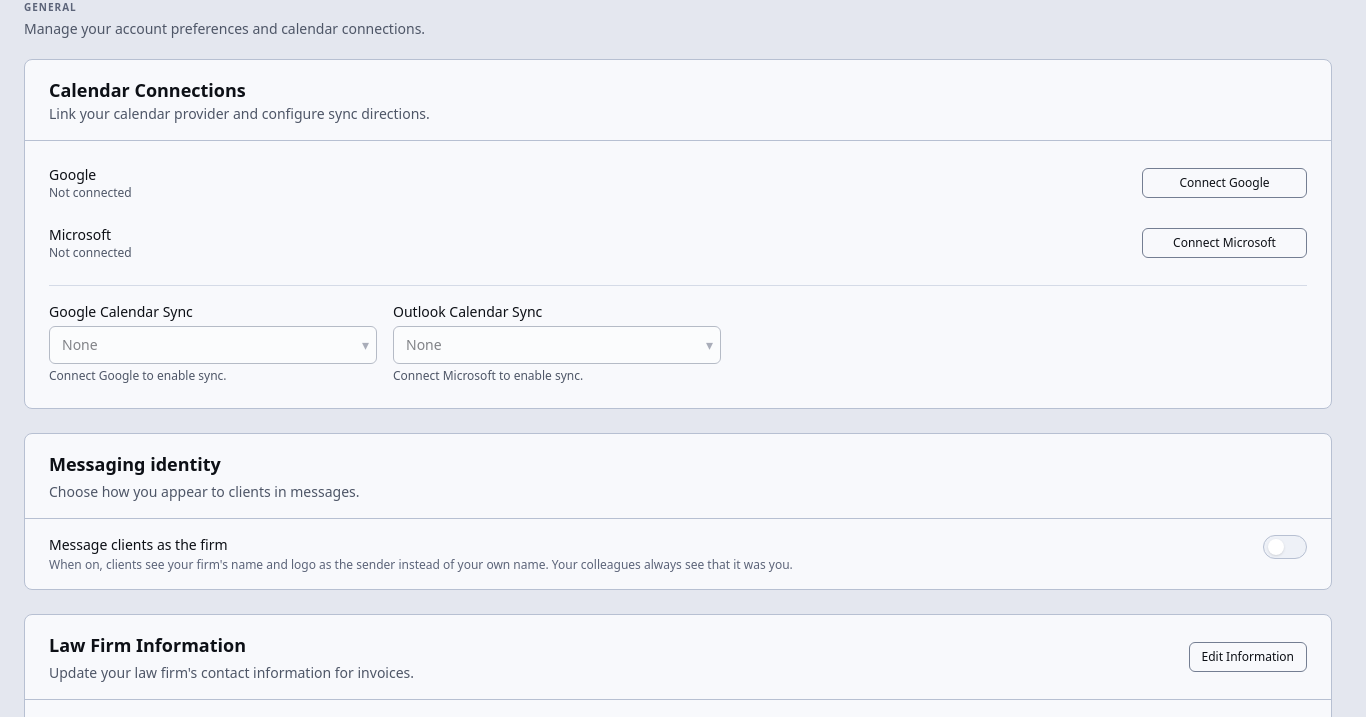
Test: saving the firm information › refreshes the shared firm and shows the saved details and a confirmation in the card
Click the button "Edit Information" at (1248, 657), box [1188,642,1307,672]
(page scrolled)
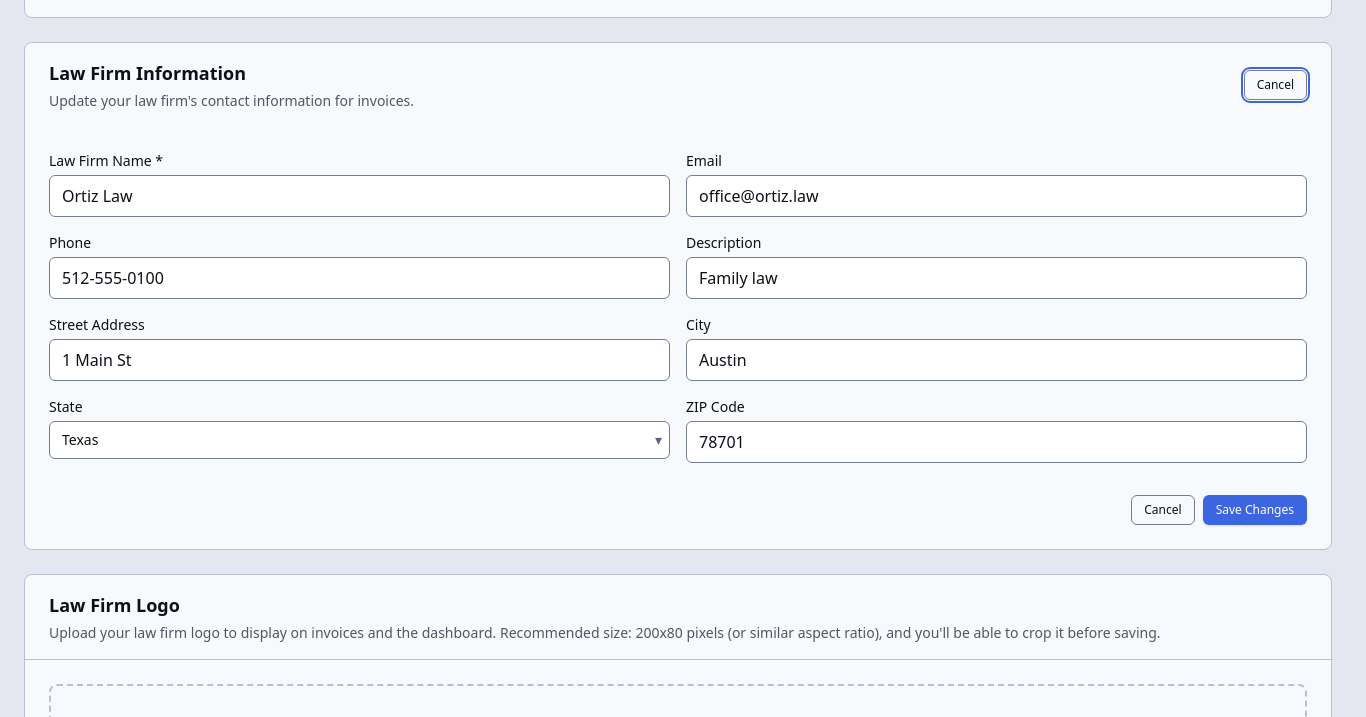
Replace the text in the field labelled "Street Address" with "200 Congress Ave" at (360, 360), box [49,339,670,381]
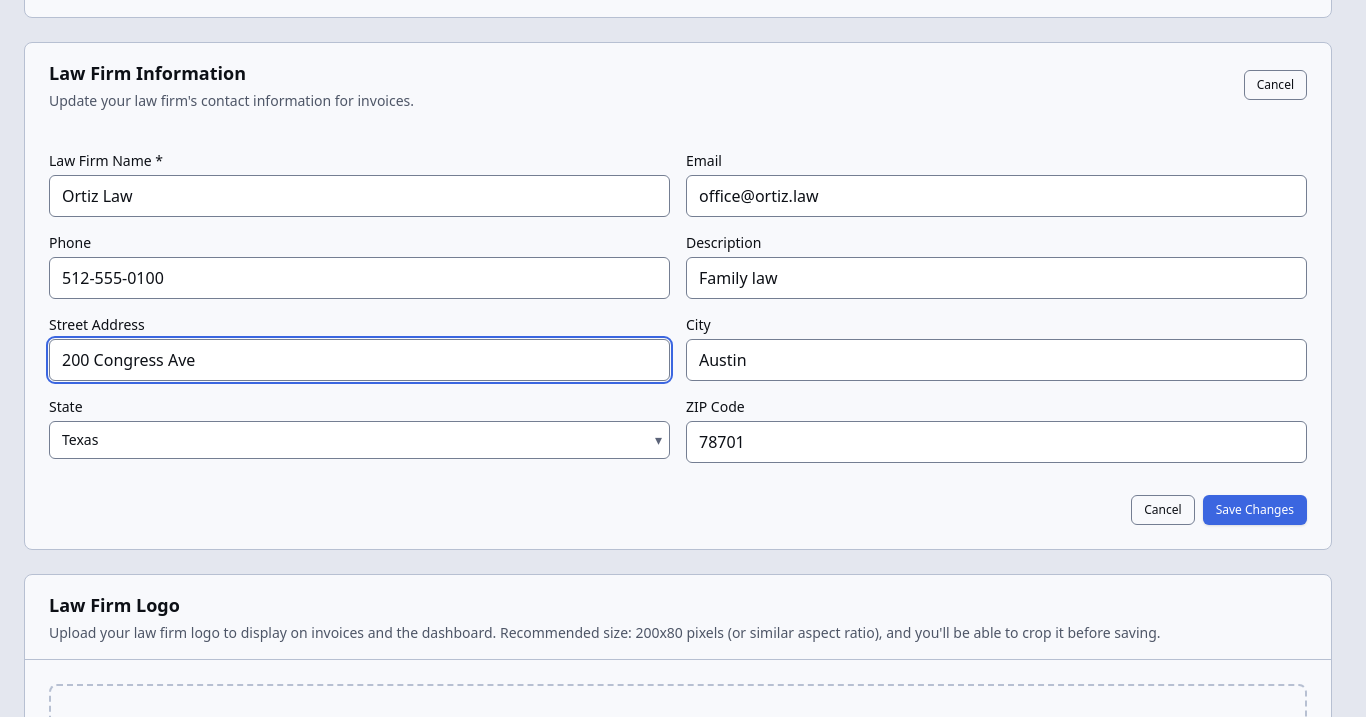
Click the button named "State" at (80, 440), box [49,421,670,459]
(page scrolled)
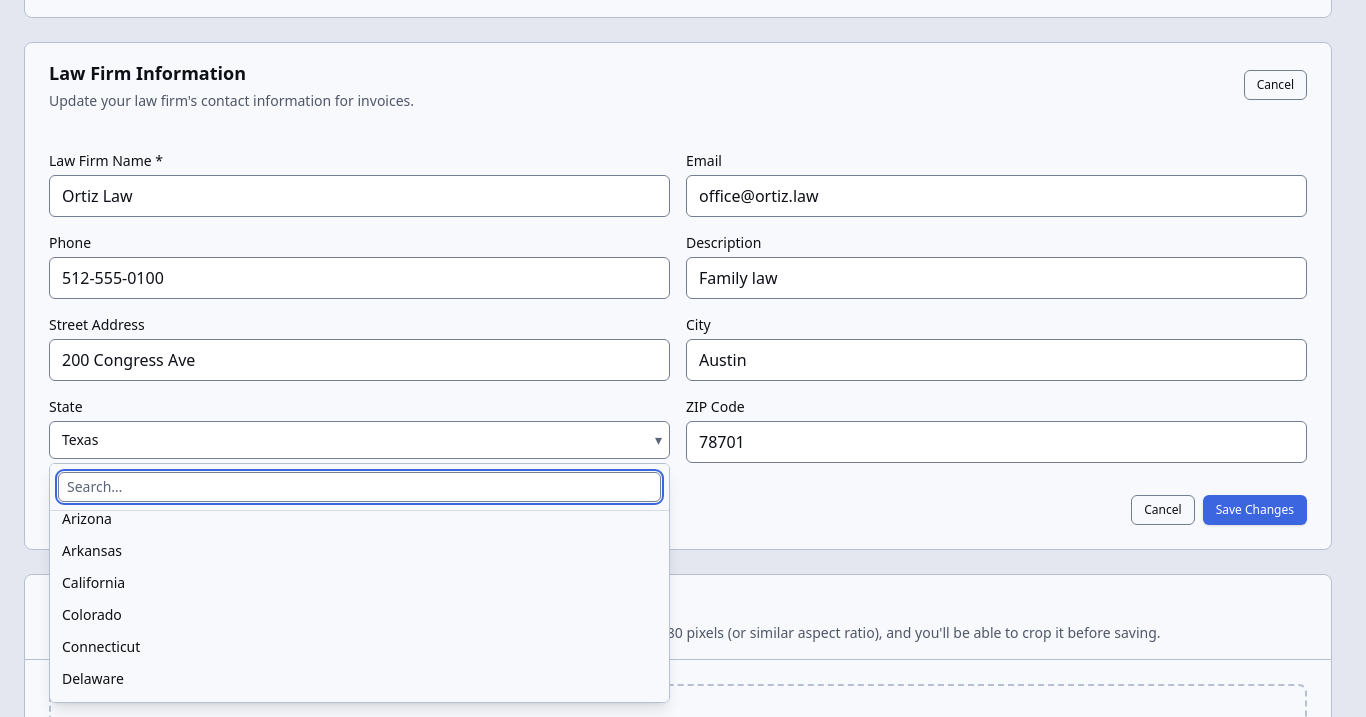
Click the option "California" at (94, 582), box [62,573,125,592]
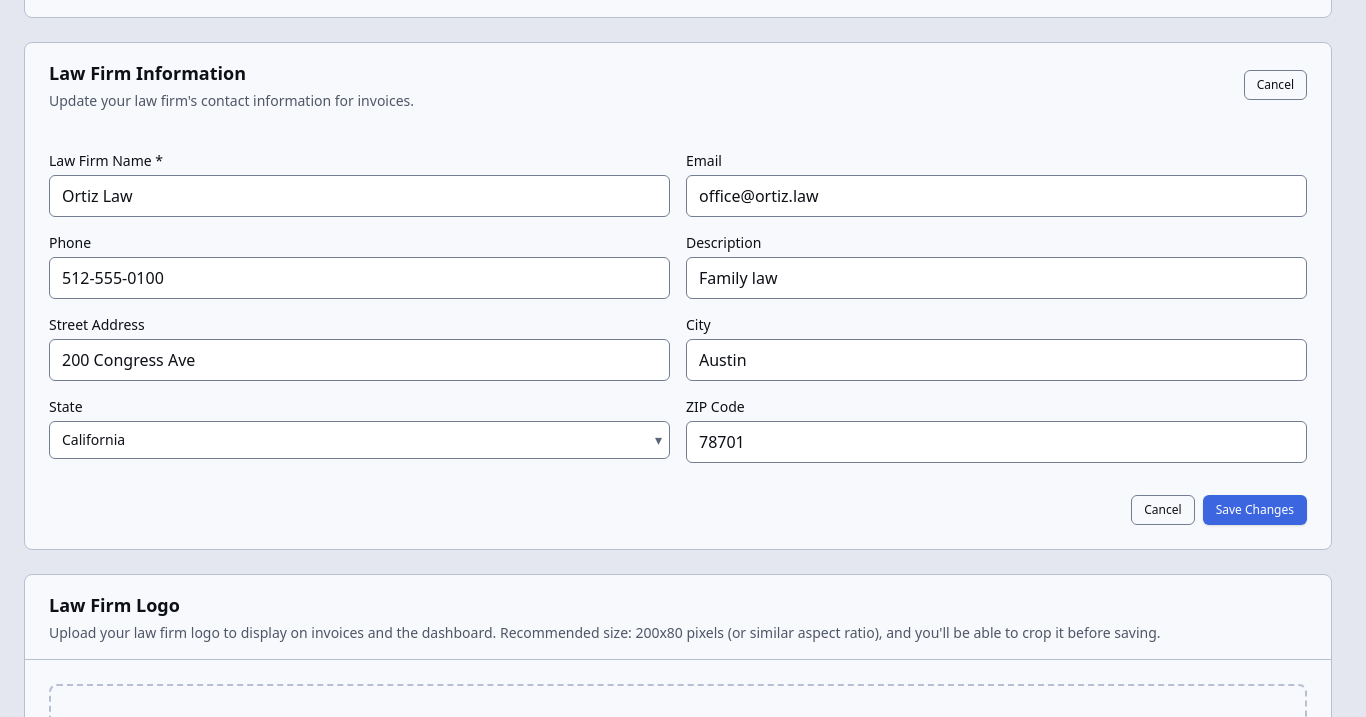
Click the button "Save Changes" at (1255, 510), box [1203,495,1307,525]
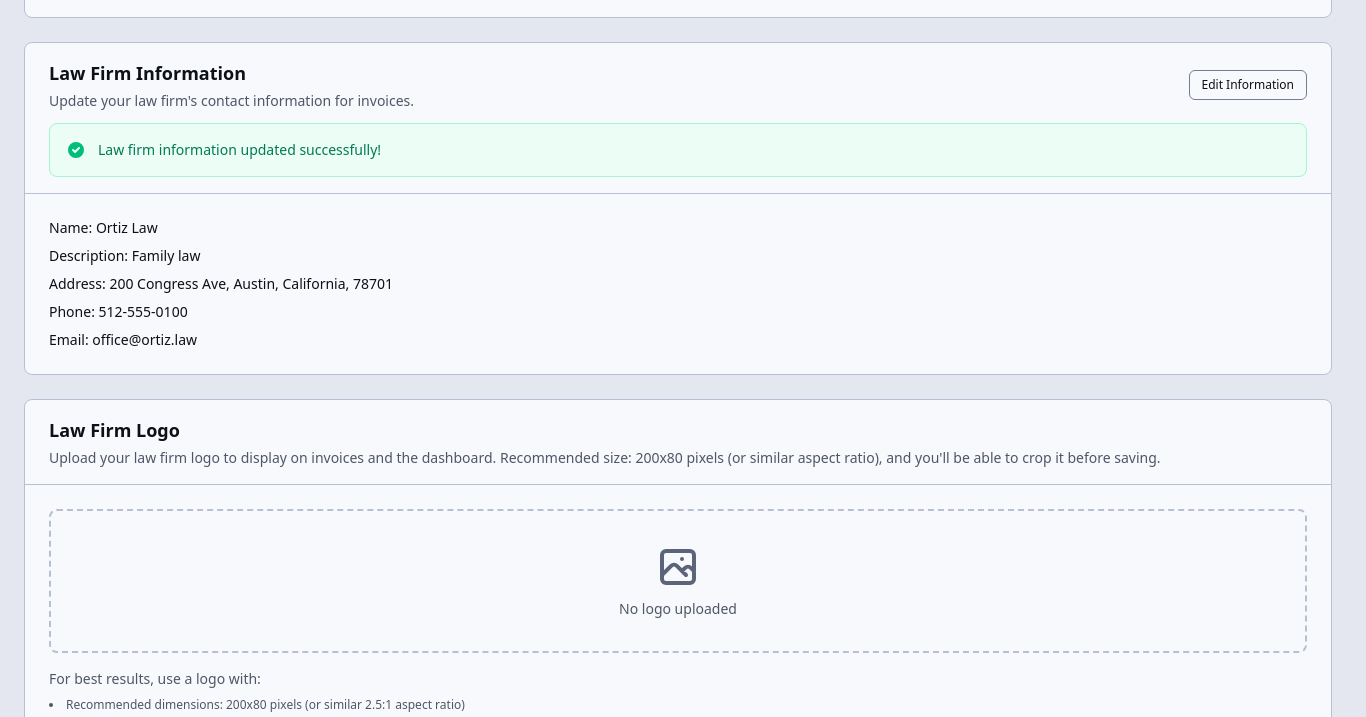
Check: the message reads "Law firm information updated successfully!", box [98,140,381,159]
Check: the text "Address: 200 Congress Ave, Austin, California, 78701" is shown, box [49,274,393,293]
Check: the label labelled "Street Address" is gone
